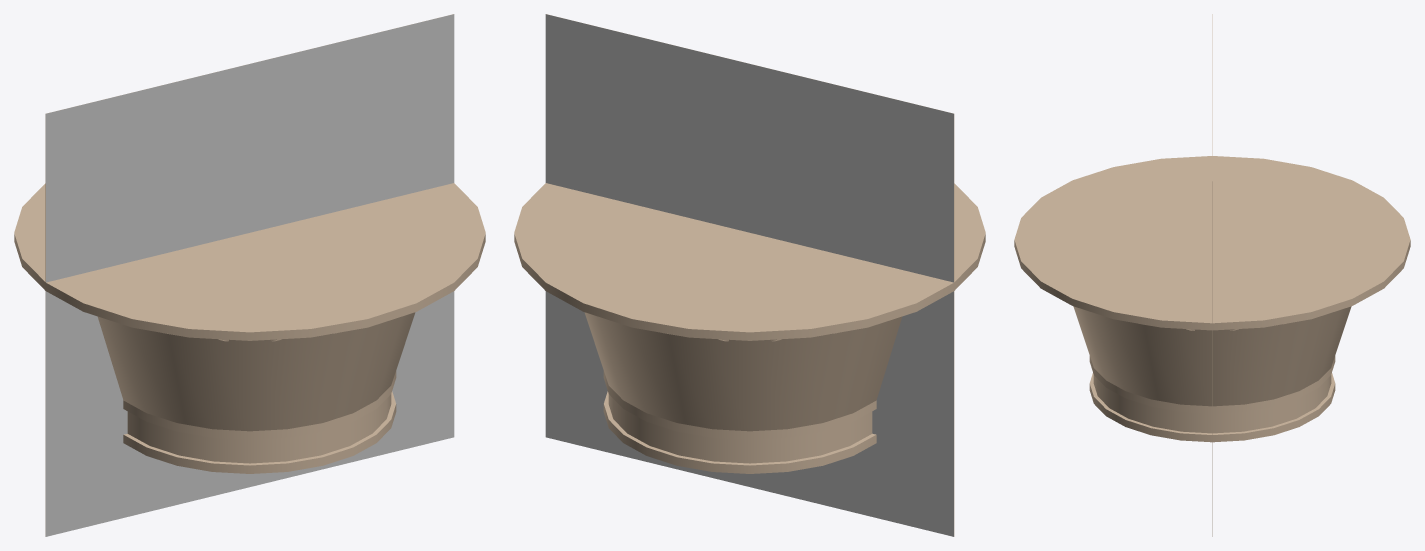
Rendered from test shapes.obj.
The picture shows the model from 3 angles, left to right: view 1: azimuth 30°, elevation 25°; view 2: azimuth 150°, elevation 25°; view 3: azimuth 270°, elevation 25°; orthographic projection. The views are drawn at different scales.
Visible parts, largest first — view 1: image1, Cylinder2; view 2: image1, Cylinder2; view 3: Cylinder2, image1.
Boxes of the visible parts, x1,y1,x2,y2 form: image1: (45,14,454,536); Cylinder2: (14,183,485,473); image1: (545,14,954,536); Cylinder2: (514,183,985,473); Cylinder2: (1014,156,1410,442); image1: (1212,14,1212,536).
Bounding box in the file's own units: 1.25 × 1.24 × 1.25.
